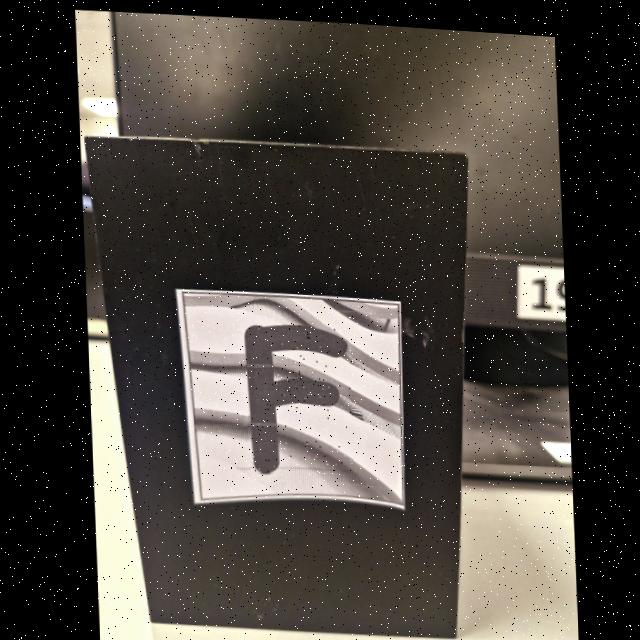F: (243, 321, 347, 469)
